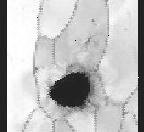good_void: (46, 65, 94, 114), (81, 33, 93, 50), (89, 18, 98, 26)
